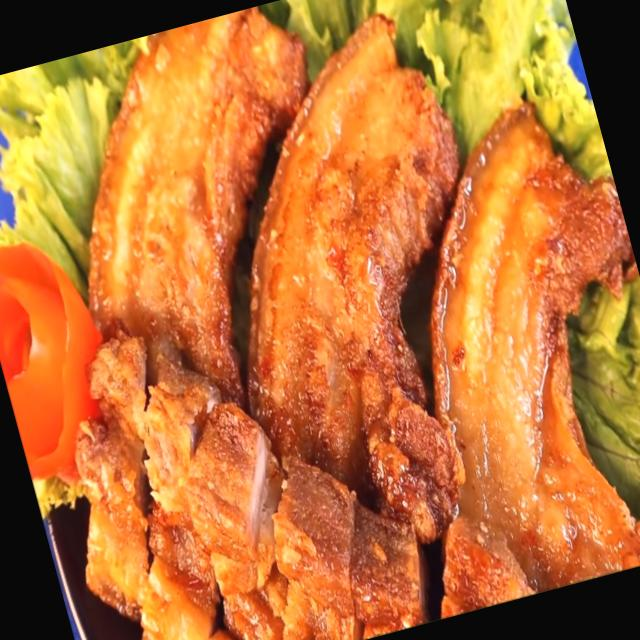thit chien: (76, 6, 307, 640), (247, 16, 462, 640), (431, 104, 640, 615)
